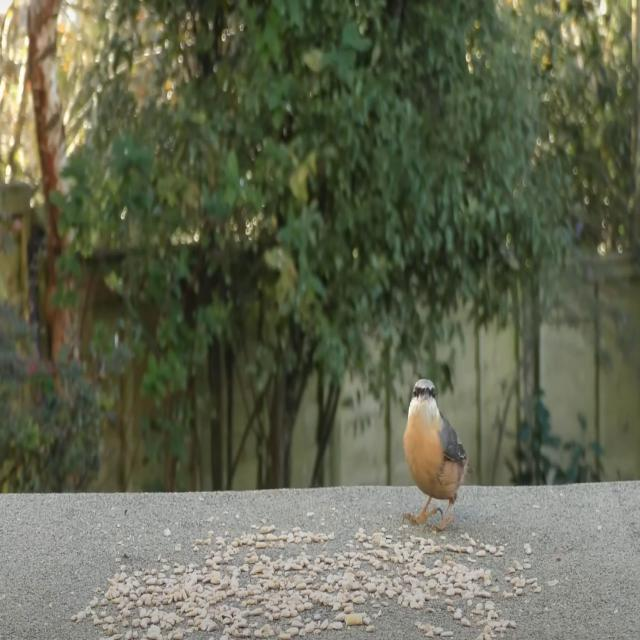bird: (404, 372, 468, 544)
